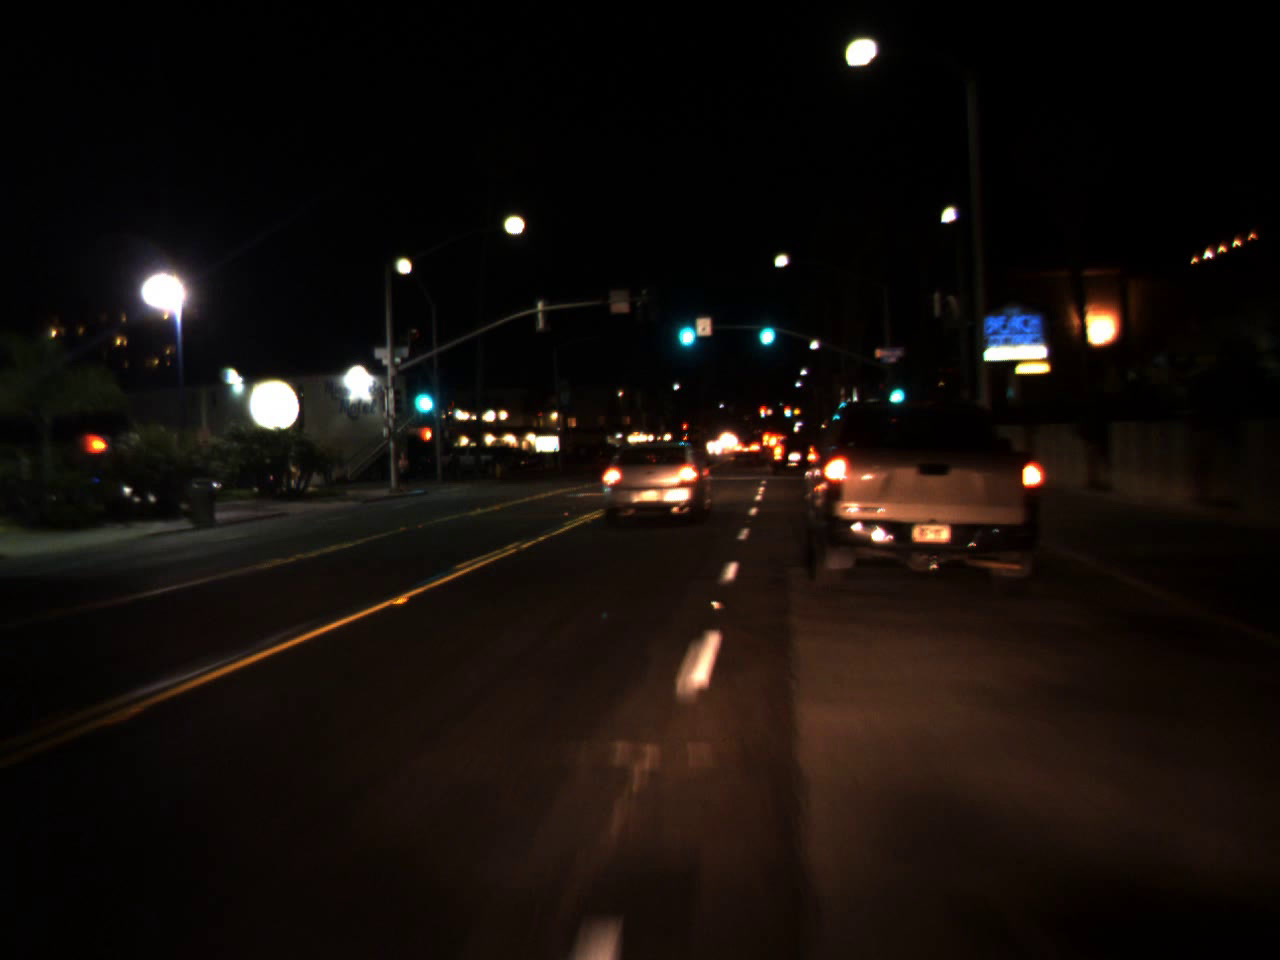go: (407, 369, 437, 419), (672, 302, 699, 353), (753, 308, 778, 347), (885, 377, 904, 407)
